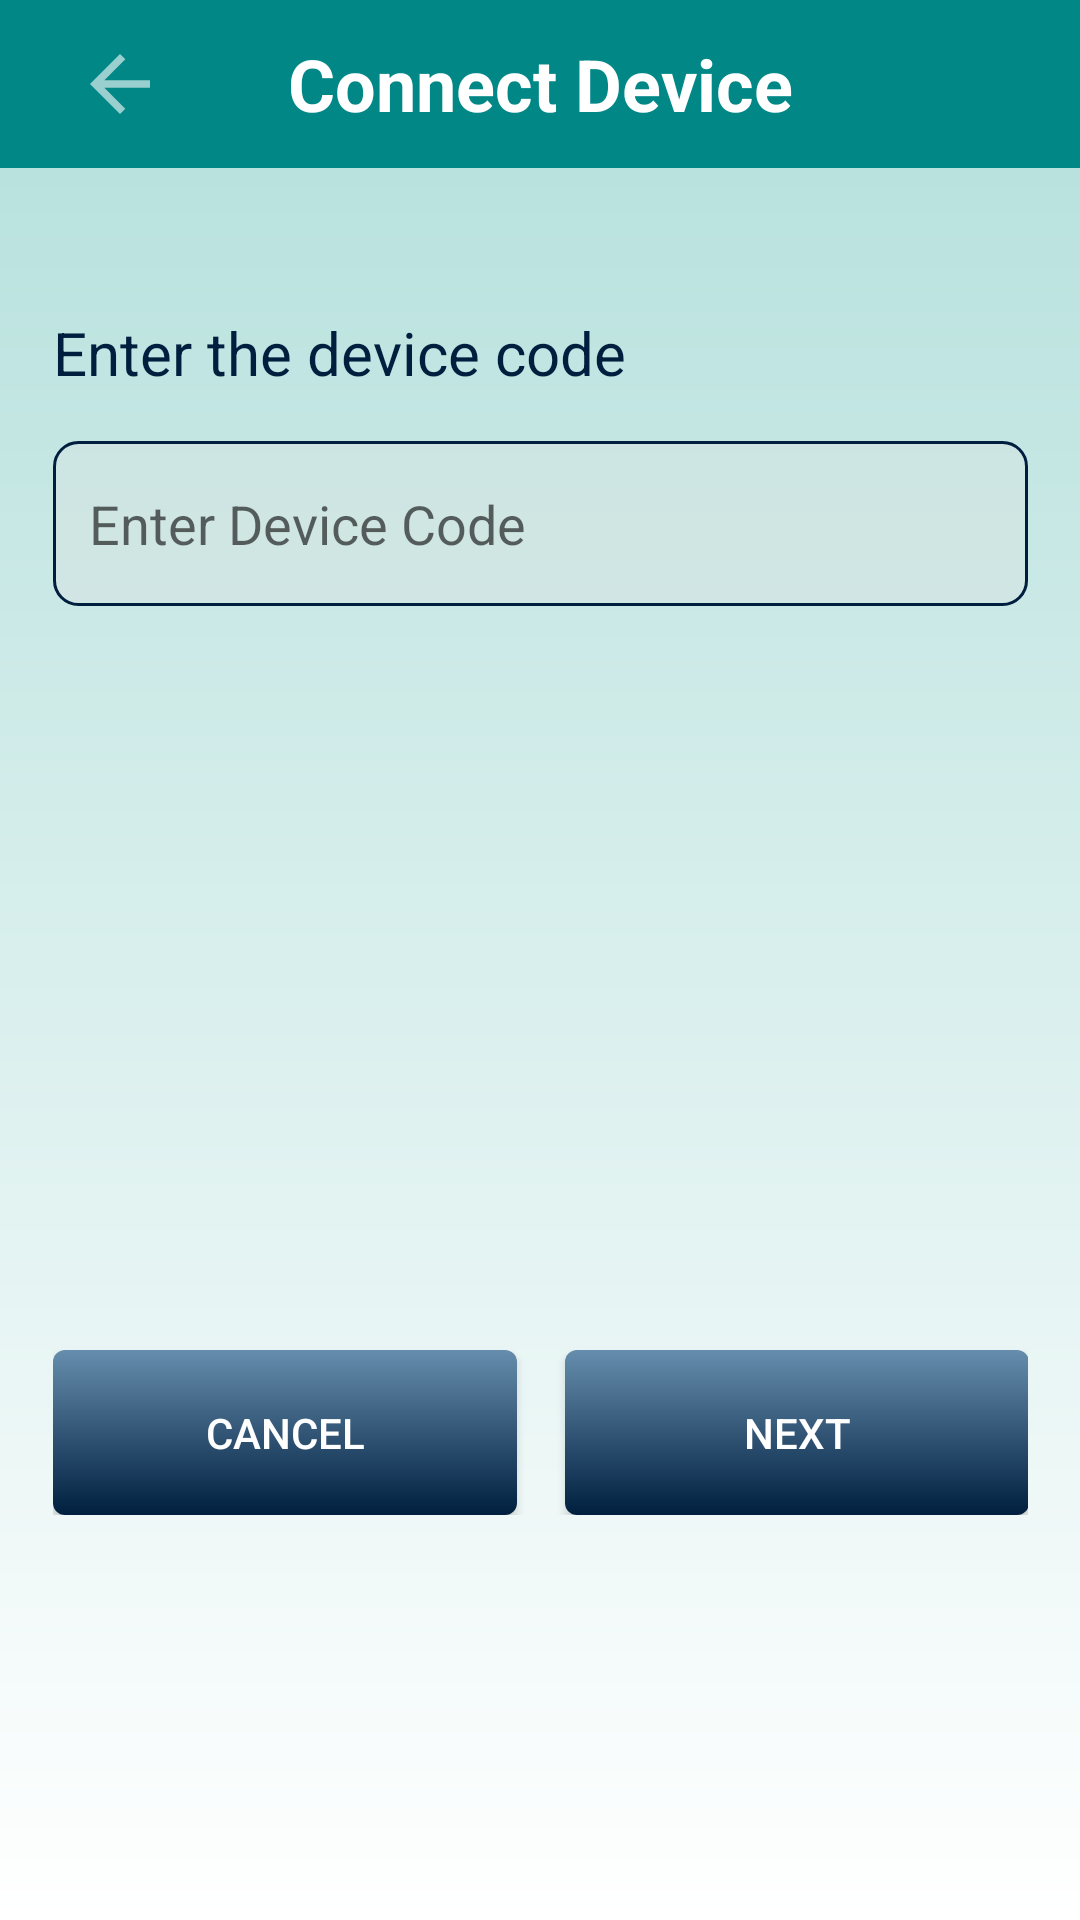

Where icons sit on this 1080px×1920px app screen, as bbox=(x1, y1, x2, y2):
Back Button: bbox=(90, 54, 150, 114)
